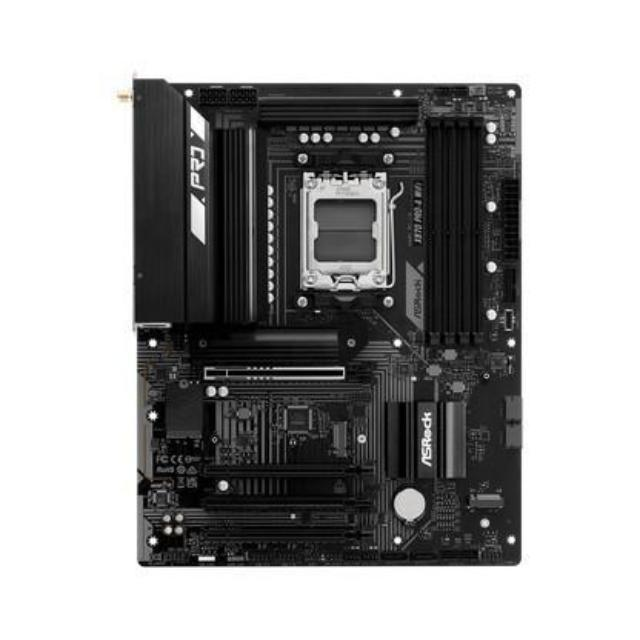Mainboard: (124, 62, 524, 574)
